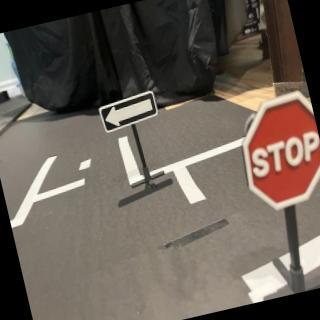sign_oneway_left: (98, 90, 161, 134)
sign_stop: (232, 87, 320, 213)
